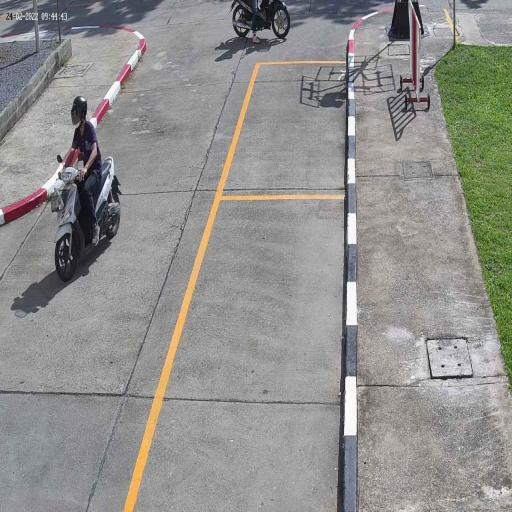motorcycle: (52, 164, 124, 284), (230, 0, 292, 44)
